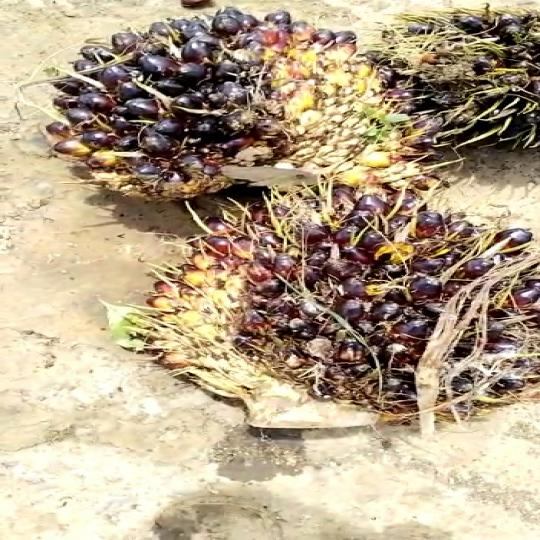mentah: (166, 198, 540, 441), (47, 0, 459, 216)
